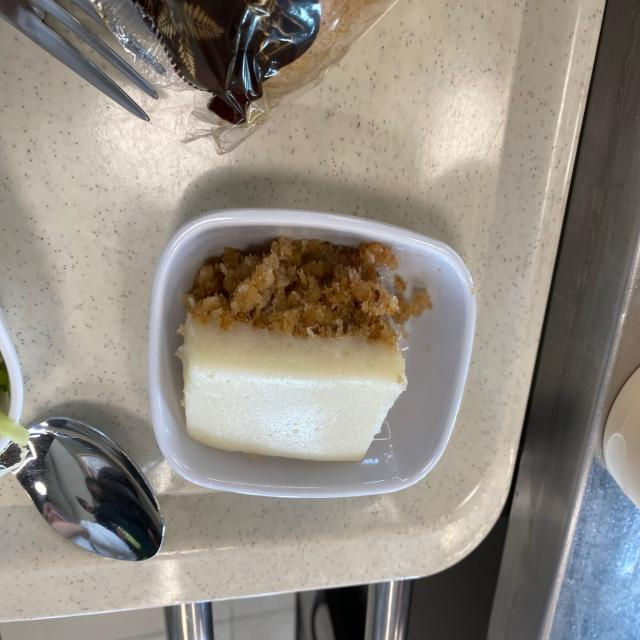yan_yemek: (163, 230, 453, 494)
